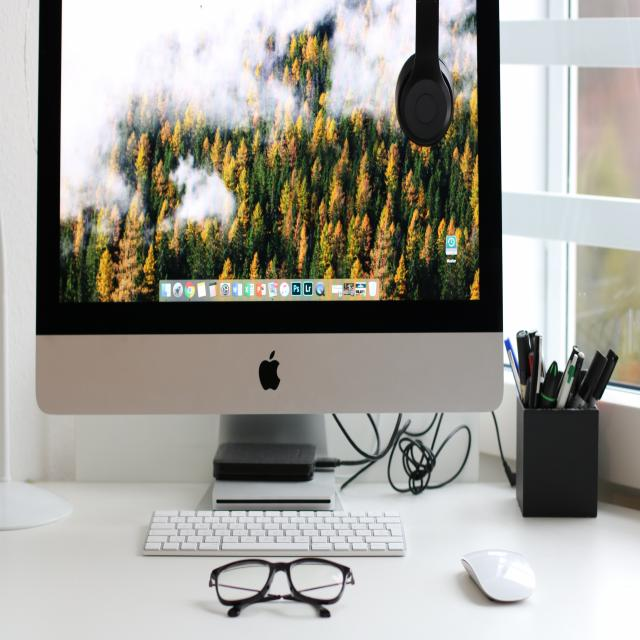computer: (34, 0, 475, 557)
glasses: (208, 550, 365, 634)
